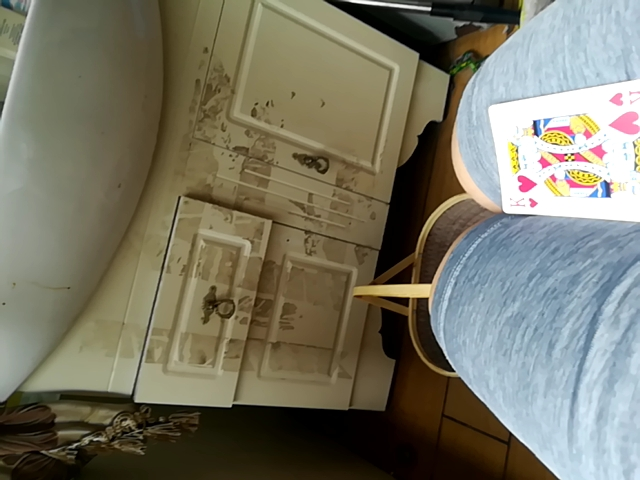hx k: (477, 75, 638, 229)
